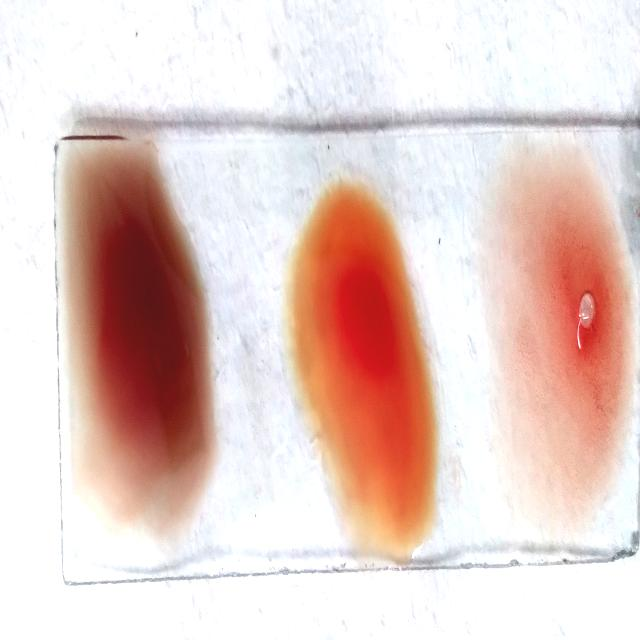D: (516, 186, 624, 504)
